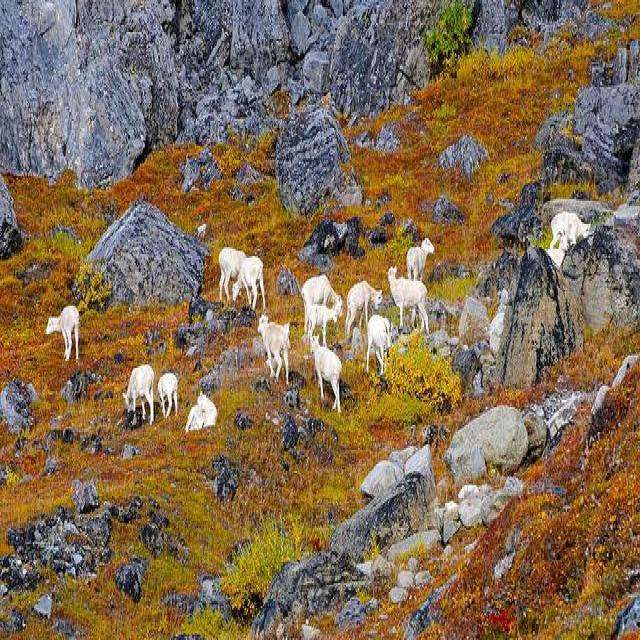Sheep: (342, 238, 570, 340), (310, 334, 343, 414), (302, 276, 343, 340), (257, 314, 292, 386), (233, 254, 266, 313)
